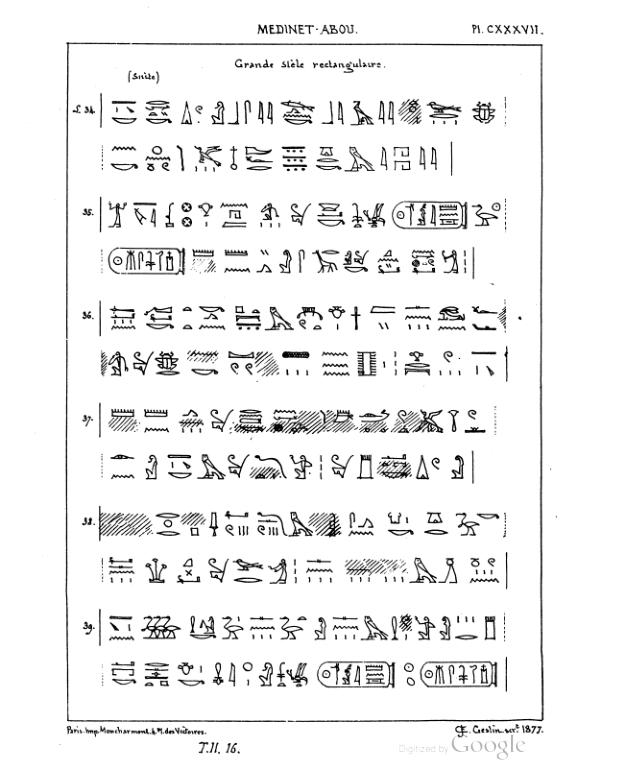circle: (105, 242, 190, 281), (316, 656, 400, 695), (416, 657, 504, 693), (388, 197, 470, 234)
